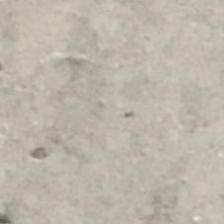Non_Crack: (9, 8, 224, 223)
